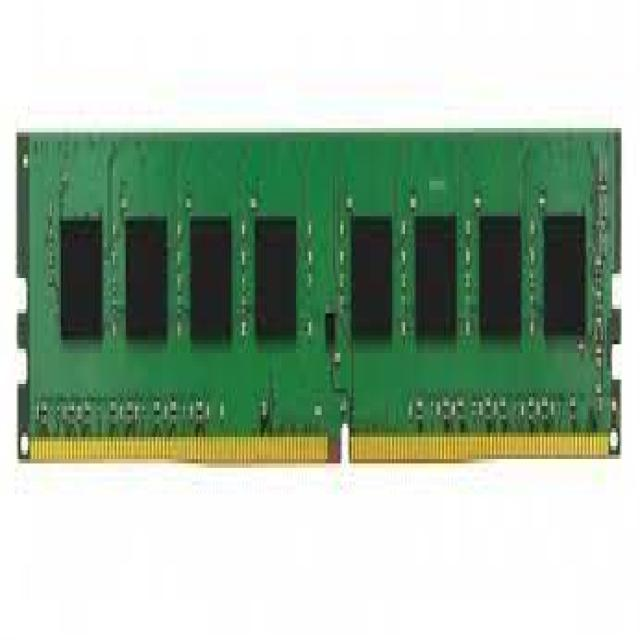Ram: (23, 84, 611, 542)
